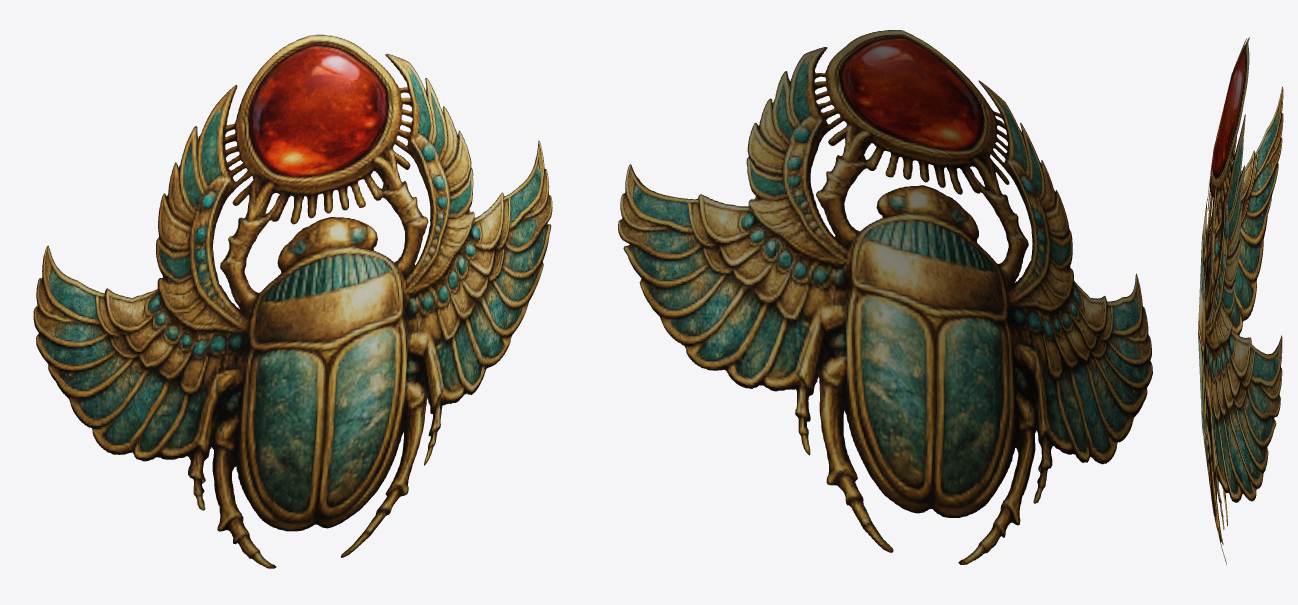
Rendered from Puzzle 1 Beetle.fbx.
3 renders of one model, left to right at view 1: azimuth 30°, elevation 25°; view 2: azimuth 150°, elevation 25°; view 3: azimuth 270°, elevation 25°, orthographic. The views are drawn at different scales.
Visible parts, largest first — view 1: Puzzle 1 ScarabBeetle; view 2: Puzzle 1 ScarabBeetle; view 3: Puzzle 1 ScarabBeetle.
Part boxes in pixels (x1,y1,x2,y2): Puzzle 1 ScarabBeetle: [33, 34, 552, 568]; Puzzle 1 ScarabBeetle: [618, 30, 1152, 564]; Puzzle 1 ScarabBeetle: [1198, 37, 1283, 564].
Size of the model in its own units: 37.63 by 36.82 by 5.14.
